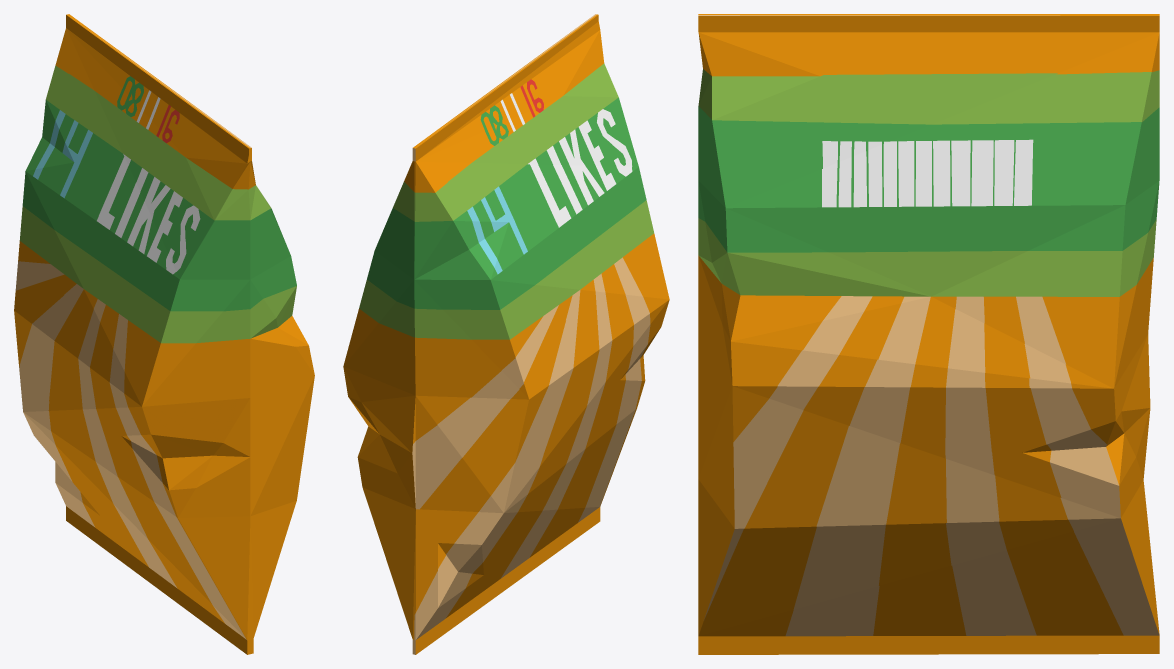
File: TIME HOTEL 2.10.glb
3 views of the same model, side by side, from view 1: azimuth 30°, elevation 25°; view 2: azimuth 150°, elevation 25°; view 3: azimuth 270°, elevation 25° (orthographic). The views are drawn at different scales.
Parts seen in each view (by area): view 1: group478861069; view 2: group478861069; view 3: group478861069.
Boxes of the visible parts, bbox=[...] form: group478861069: bbox=[14, 14, 314, 654]; group478861069: bbox=[343, 14, 669, 654]; group478861069: bbox=[698, 14, 1159, 654].
Bounding box in the file's own units: 0.8384 × 2.26 × 1.48.
